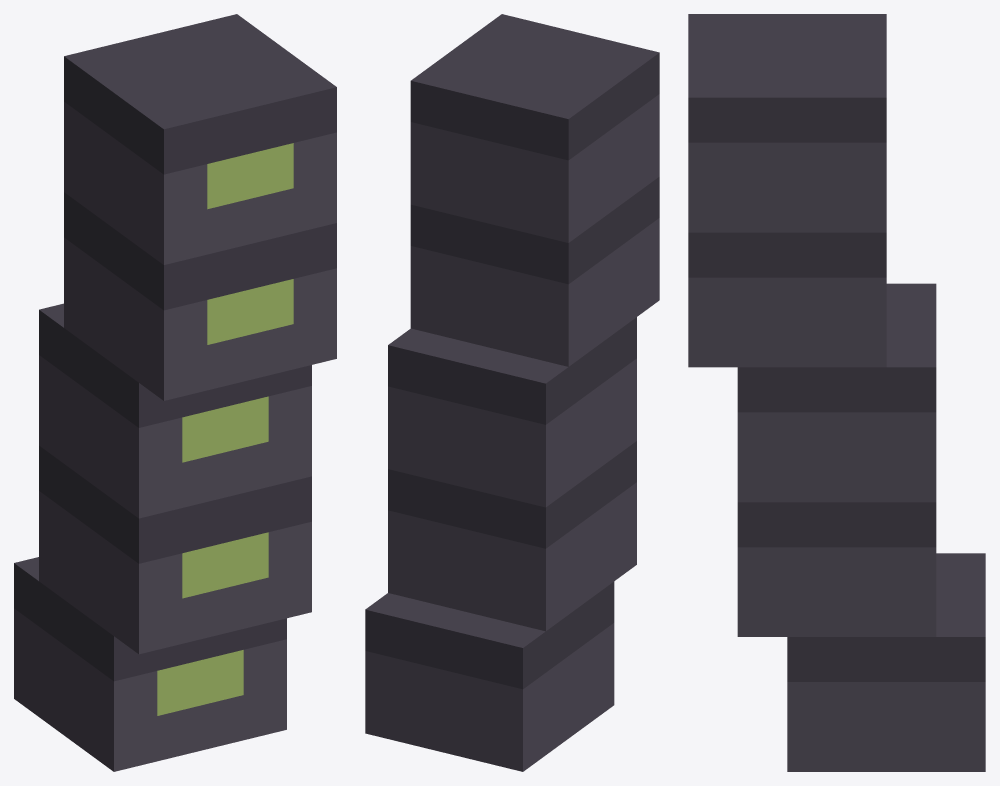
Rendered from spine.glb.
3 views of the same model, side by side, from view 1: azimuth 30°, elevation 25°; view 2: azimuth 150°, elevation 25°; view 3: azimuth 270°, elevation 25° (orthographic). The views are drawn at different scales.
Size of the model in its own units: 4 by 15 by 6.
